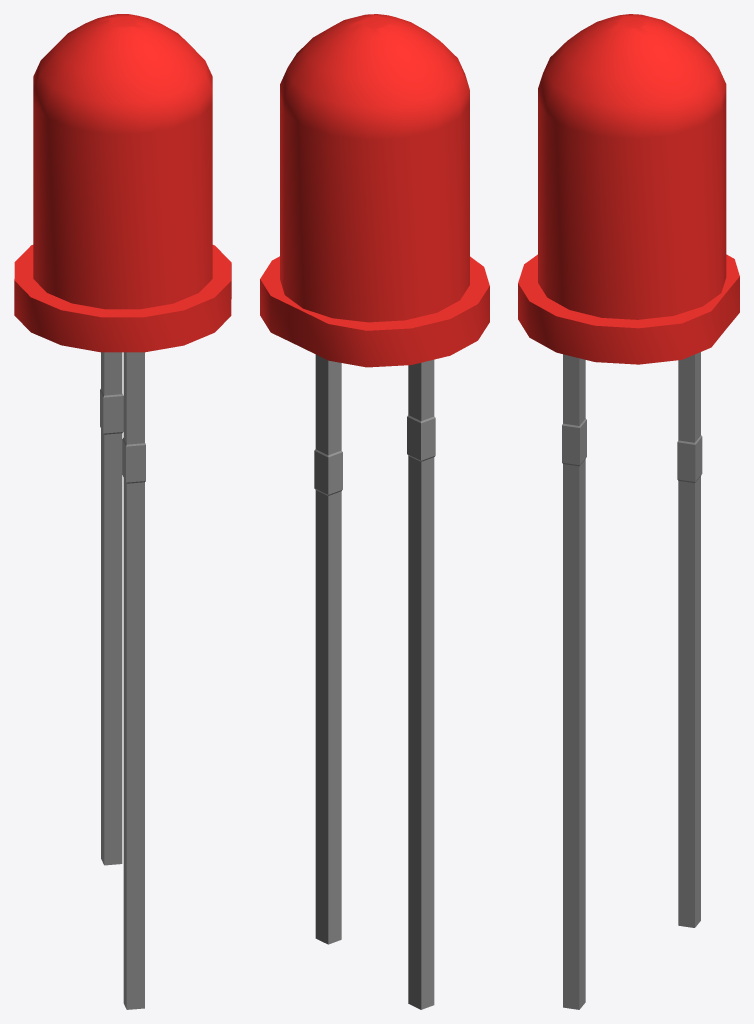
Rendered from led.glb.
3 views of the same model, side by side, from view 1: azimuth 30°, elevation 25°; view 2: azimuth 150°, elevation 25°; view 3: azimuth 270°, elevation 25° (orthographic). The views are drawn at different scales.
Visible parts, largest first — view 1: Cylinder; view 2: Cylinder; view 3: Cylinder.
Part boxes in pixels (<box>): Cylinder: <box>14,14,231,1009</box>; Cylinder: <box>260,14,489,1009</box>; Cylinder: <box>518,14,739,1009</box>.
Bounding box in the file's own units: 0.3395 × 1.63 × 0.3303.
